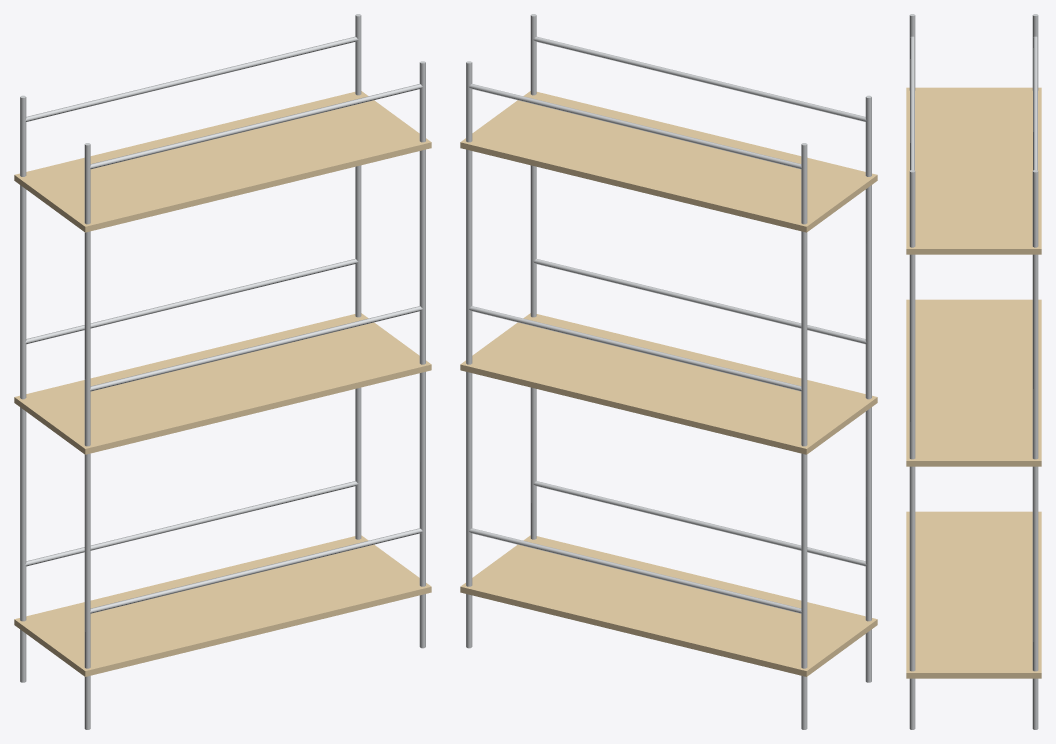
File: scaffold_section.glb
The picture shows the model from 3 angles, left to right: view 1: azimuth 30°, elevation 25°; view 2: azimuth 150°, elevation 25°; view 3: azimuth 270°, elevation 25°; orthographic projection. The views are drawn at different scales.
Parts seen in each view (by area): view 1: scaffold_section; view 2: scaffold_section; view 3: scaffold_section.
Part boxes in pixels (x1,y1,x2,y2): scaffold_section: (14, 14, 431, 729); scaffold_section: (460, 14, 877, 729); scaffold_section: (906, 14, 1041, 729).
Bounding box in the file's own units: 3.1 × 5 × 1.1.
